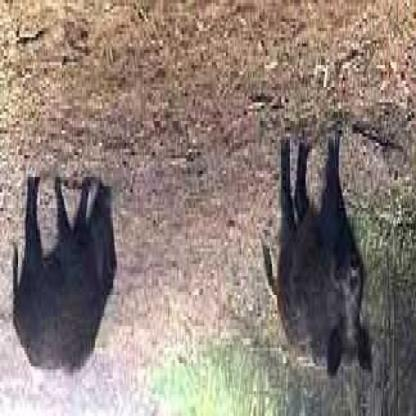boar: (254, 107, 379, 376), (0, 162, 132, 387)
